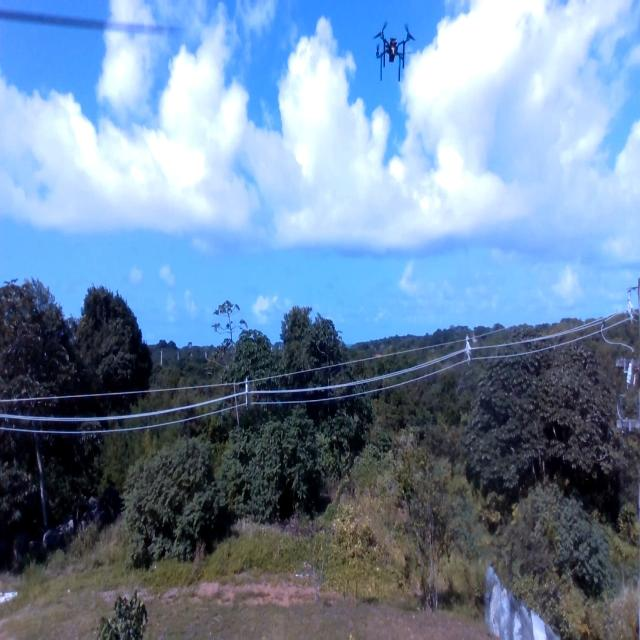-uav-: (368, 20, 419, 94)
